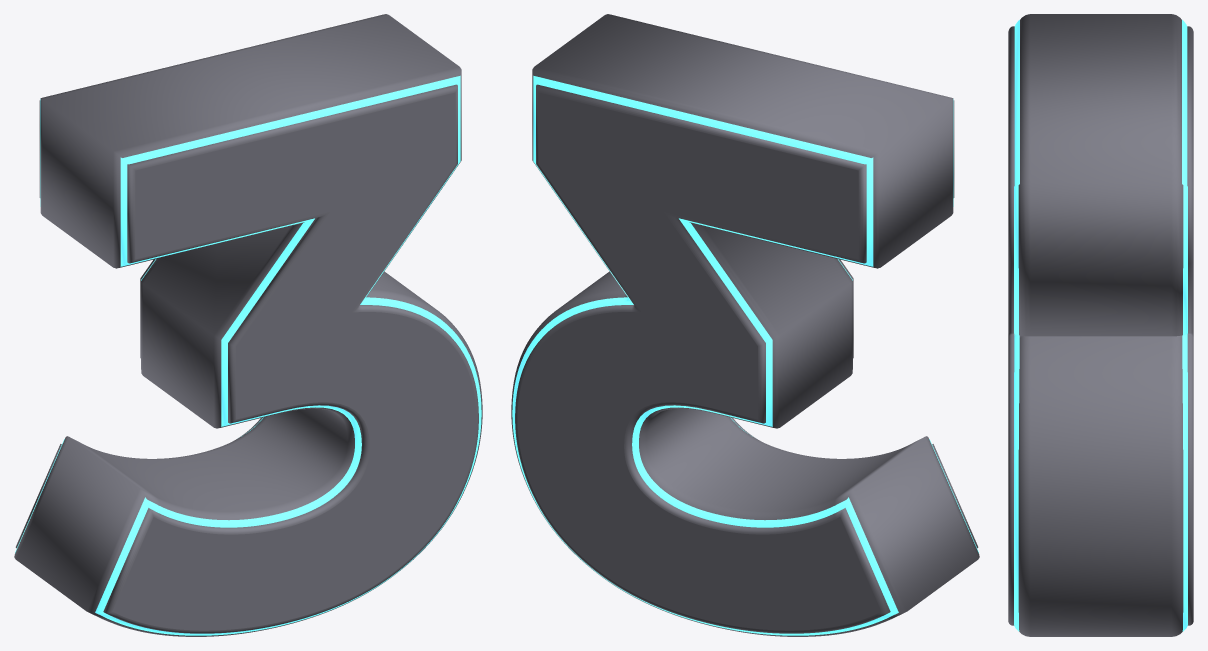
3 renders of one model, left to right at view 1: azimuth 30°, elevation 25°; view 2: azimuth 150°, elevation 25°; view 3: azimuth 270°, elevation 25°, orthographic.
Parts seen in each view (by area): view 1: N_3_smaller, N_3_side, N_3_border; view 2: N_3_smaller, N_3_side, N_3_border; view 3: N_3_side, N_3_smaller, N_3_border.
Boxes of the visible parts, left/top/right/bottom form: N_3_smaller: left=15, top=84, right=478, bottom=633; N_3_side: left=14, top=14, right=482, bottom=636; N_3_border: left=15, top=75, right=481, bottom=635; N_3_smaller: left=515, top=84, right=978, bottom=633; N_3_side: left=511, top=14, right=979, bottom=636; N_3_border: left=512, top=75, right=978, bottom=635; N_3_side: left=1018, top=14, right=1183, bottom=636; N_3_smaller: left=1008, top=26, right=1193, bottom=625; N_3_border: left=1014, top=20, right=1187, bottom=631.
Bounding box in the file's own units: 44.94 × 56.06 × 18.4.
